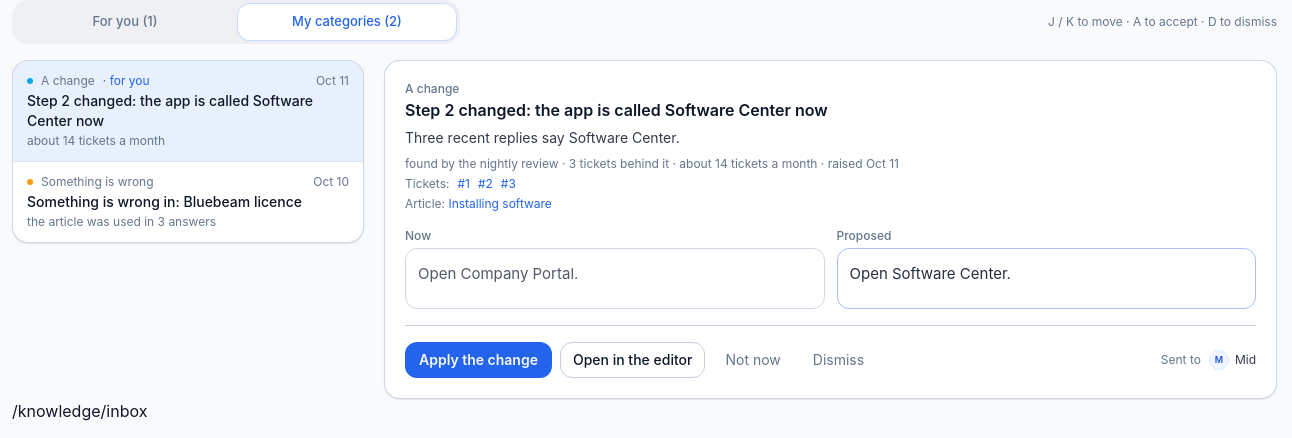
InboxPanel › accept applies the change, says so, and moves to the next item
Click the button with test id "inbox-accept": (478, 360) [405, 342, 552, 378]
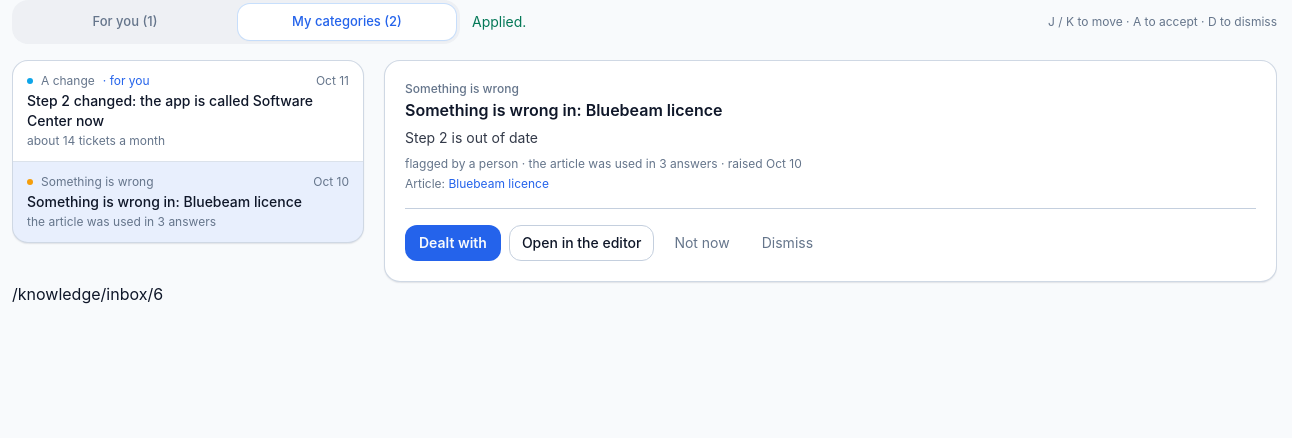
Now the message reads "Applied.", box [472, 12, 526, 32]
Now the text with test id "where" reads "/knowledge/inbox/6", box [12, 284, 163, 304]
